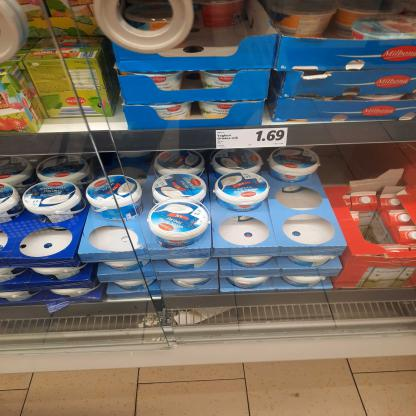prtg: (217, 128, 289, 150)
